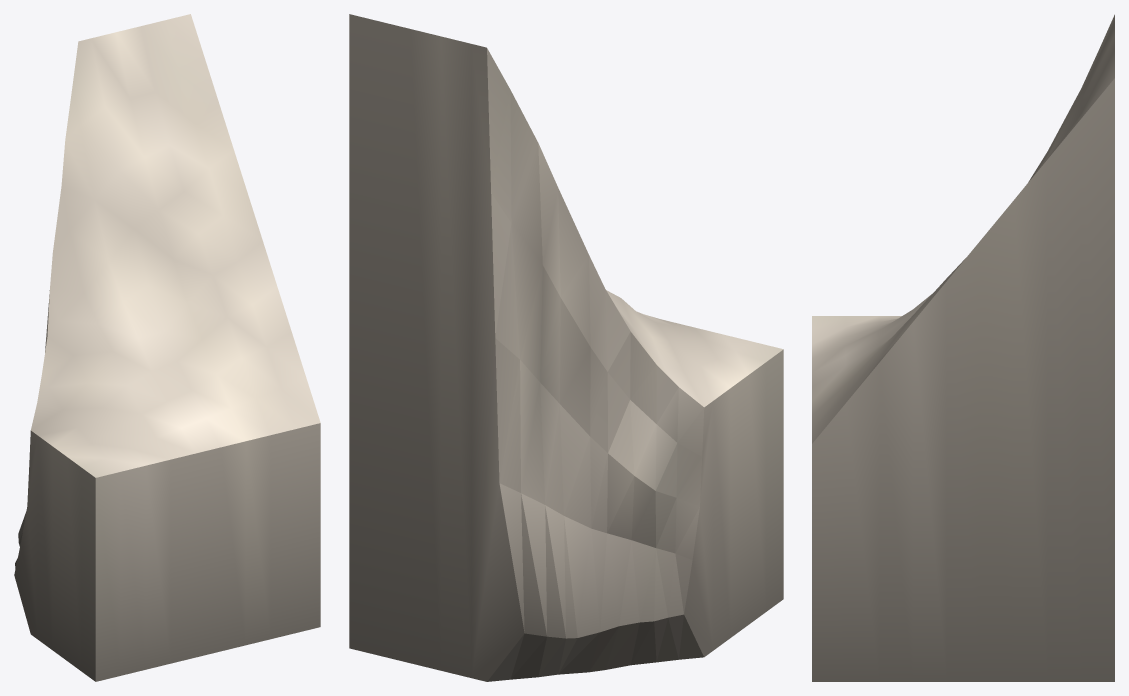
The model's file is SM_VKI_Rock_Cave_CCFO_B.fbx.
3 views of the same model, side by side, from view 1: azimuth 30°, elevation 25°; view 2: azimuth 150°, elevation 25°; view 3: azimuth 270°, elevation 25° (orthographic). The views are drawn at different scales.
Parts seen in each view (by area): view 1: SM_VKI_Rock_Cave_CCFO_B.001; view 2: SM_VKI_Rock_Cave_CCFO_B.001; view 3: SM_VKI_Rock_Cave_CCFO_B.001.
Part boxes in pixels (x1=…): SM_VKI_Rock_Cave_CCFO_B.001: x1=14, y1=14, x2=320, y2=681; SM_VKI_Rock_Cave_CCFO_B.001: x1=349, y1=14, x2=783, y2=681; SM_VKI_Rock_Cave_CCFO_B.001: x1=812, y1=14, x2=1114, y2=681.
Bounding box in the file's own units: 1.5 × 3.3 × 1.5.
